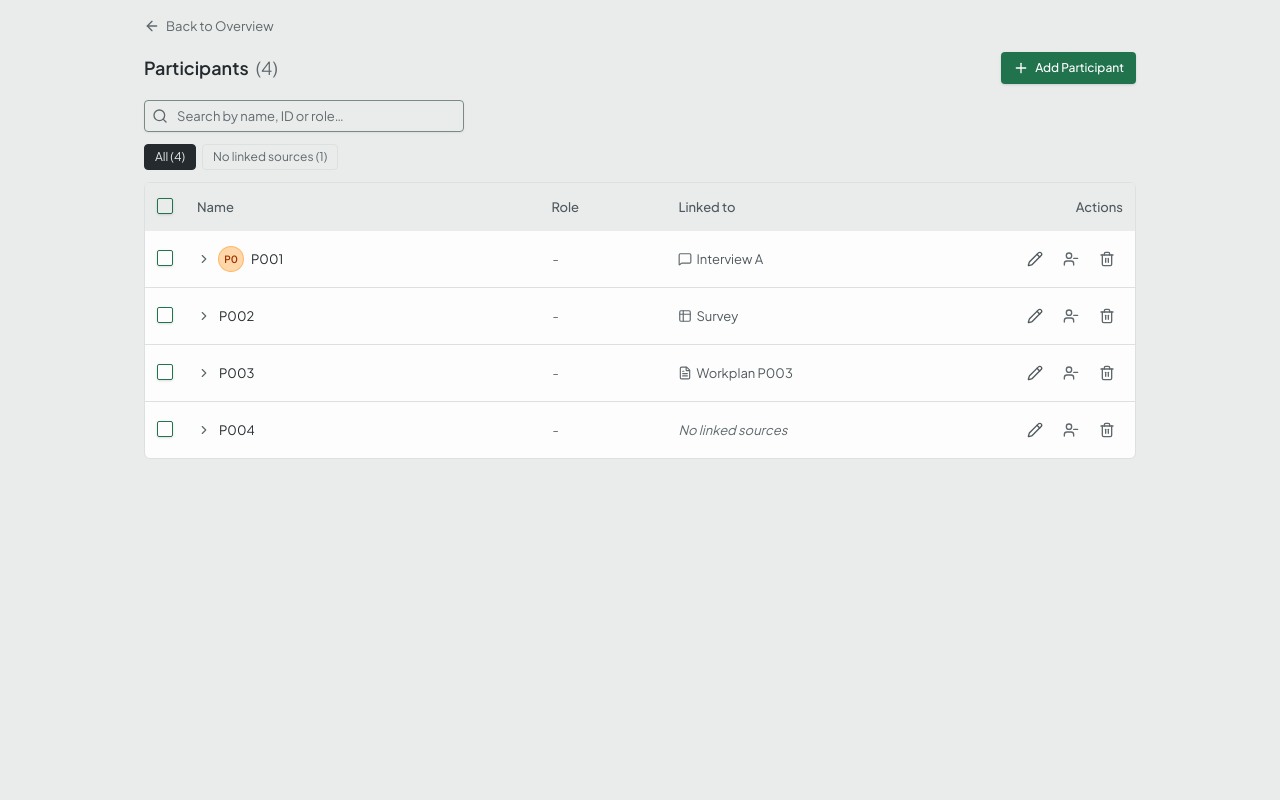
Test: #1110 — a document can be about a participant › the bulk delete says how many documents lose their subject
Check: the text "P003" is shown, box x1=219 y1=363 x2=254 y2=383
Click the checkbox named "Select P003" at (165, 372), box x1=157 y1=364 x2=173 y2=380
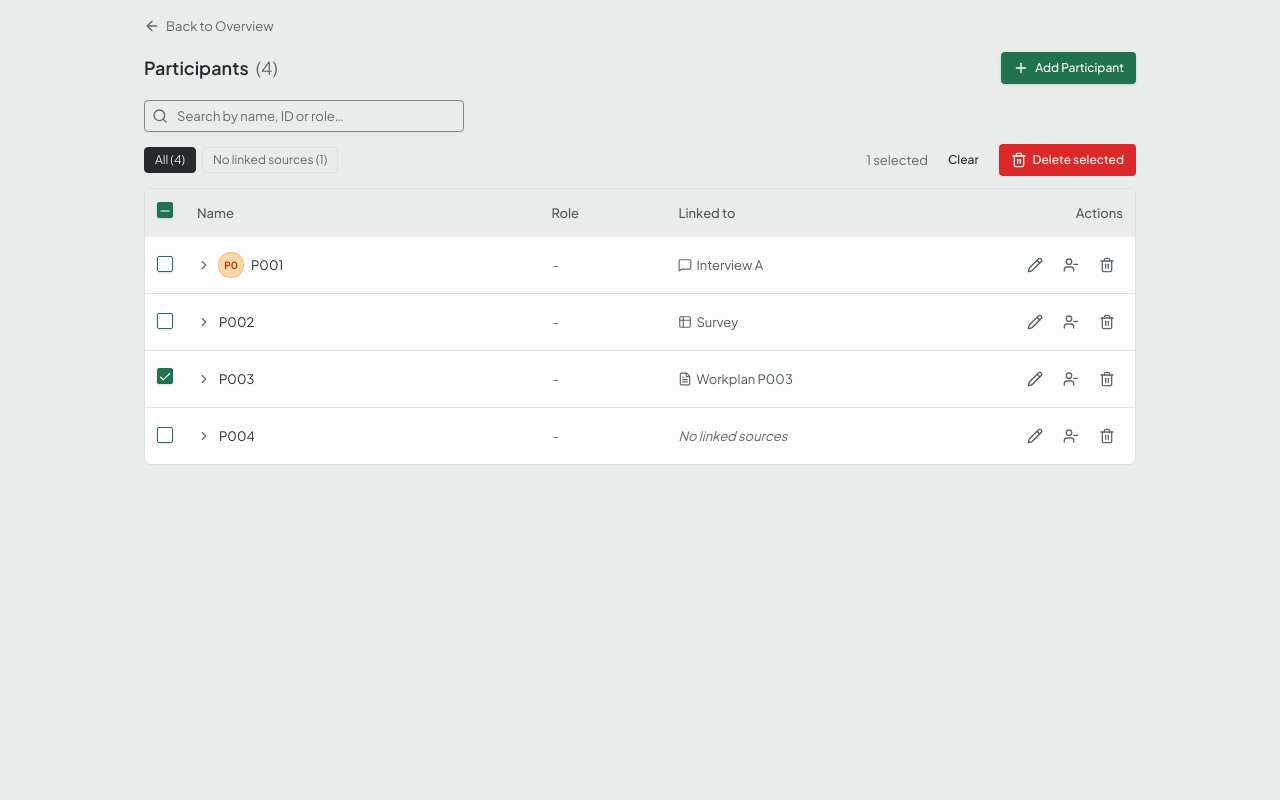
Click the button "Delete selected" at (1067, 160), box x1=999 y1=144 x2=1136 y2=176
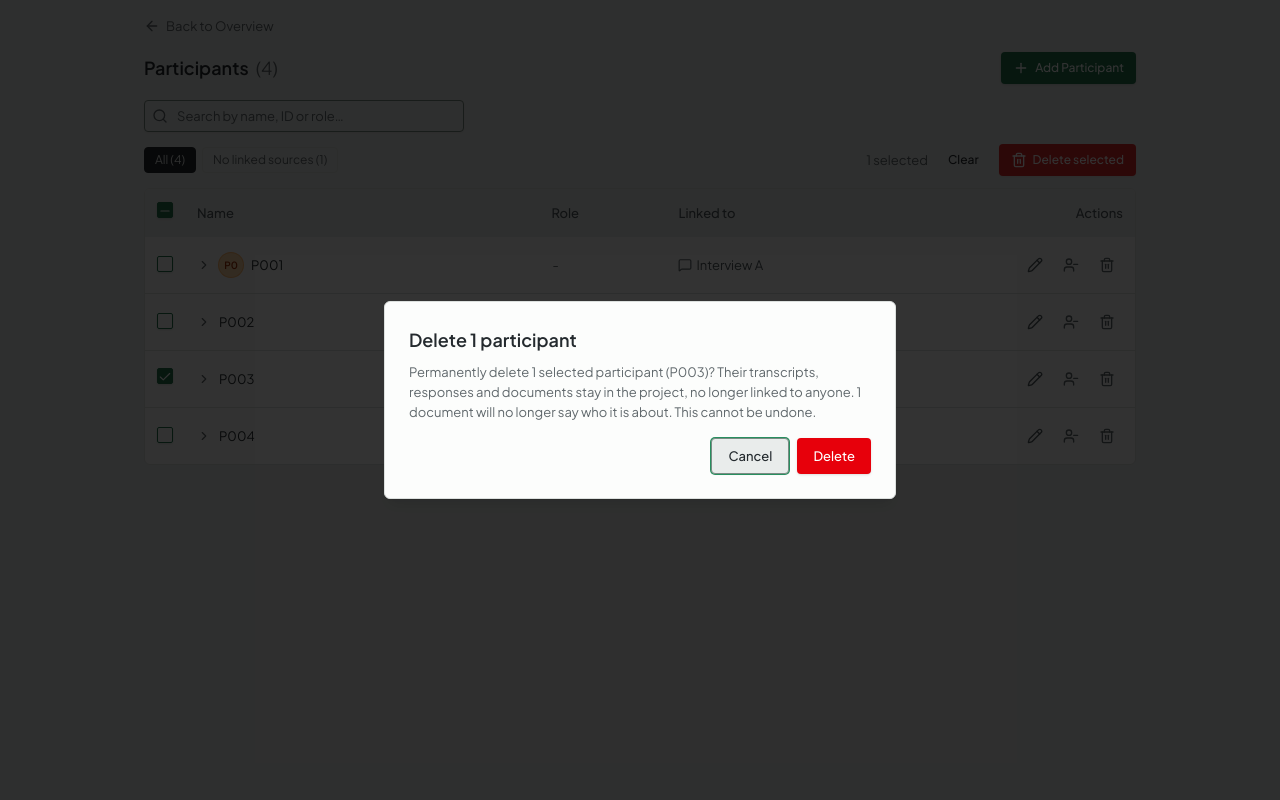
Check: the dialog shows "1 document will no longer say who it is about.", box x1=409 y1=364 x2=861 y2=420
